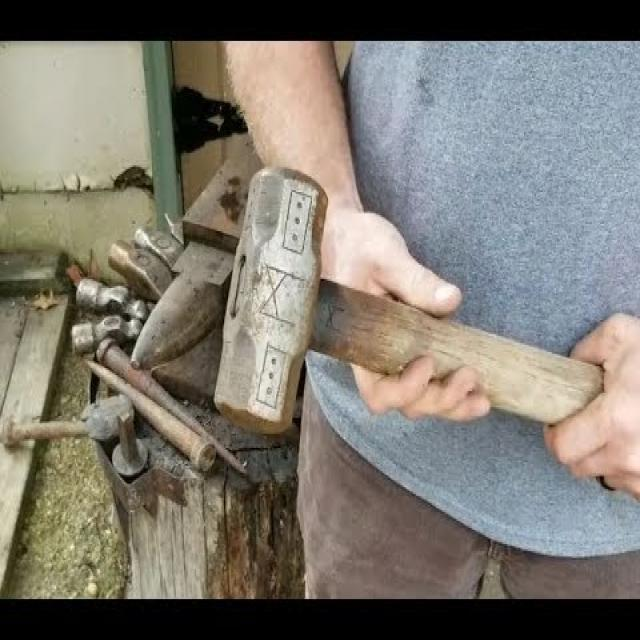hammer: (207, 153, 613, 473)
